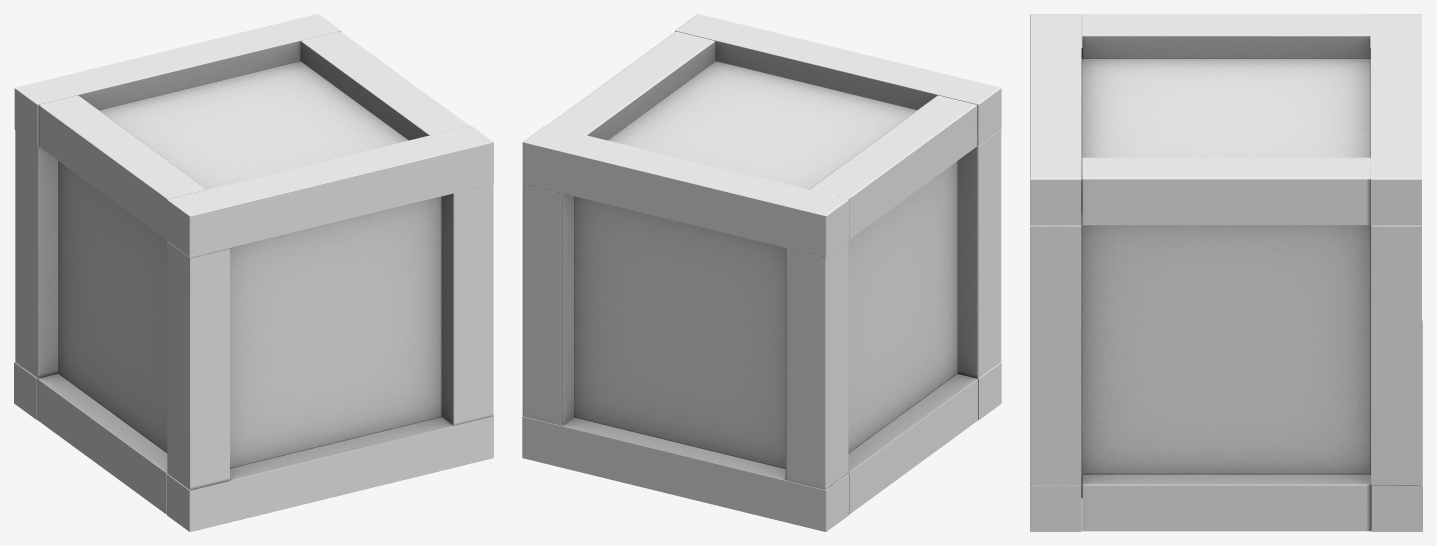
The model's file is Crate.fbx.
The picture shows the model from 3 angles, left to right: view 1: azimuth 30°, elevation 25°; view 2: azimuth 150°, elevation 25°; view 3: azimuth 270°, elevation 25°; orthographic projection. The views are drawn at different scales.
Parts seen in each view (by area): view 1: Crate; view 2: Crate; view 3: Crate.
Part boxes in pixels (x1,y1,x2,y2): Crate: (14, 14, 493, 531); Crate: (522, 14, 1001, 531); Crate: (1030, 14, 1422, 531).
Bounding box in the file's own units: 246 × 244 × 247.
1 material, 1 textured.
